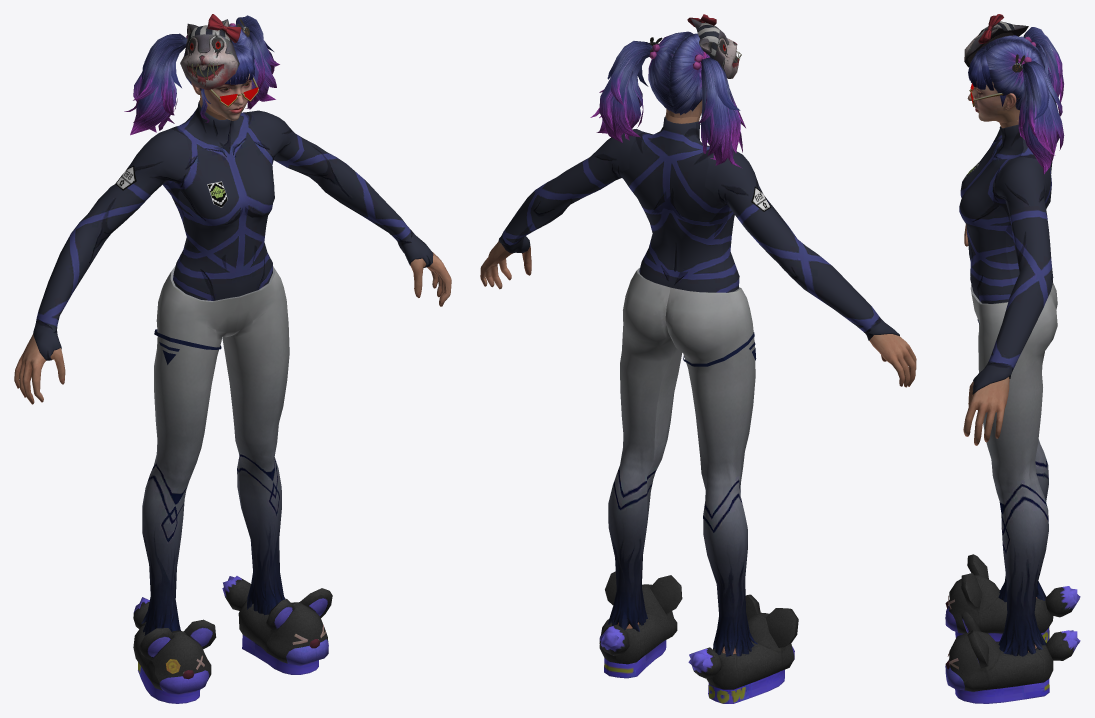
Rendered from rroli.n.glb.
The picture shows the model from 3 angles, left to right: view 1: azimuth 30°, elevation 25°; view 2: azimuth 150°, elevation 25°; view 3: azimuth 270°, elevation 25°; orthographic projection. The views are drawn at different scales.
Parts seen in each view (by area): view 1: rroli.n; view 2: rroli.n; view 3: rroli.n.
Part boxes in pixels (x1=…): rroli.n: x1=14, y1=14, x2=451, y2=703; rroli.n: x1=480, y1=14, x2=916, y2=703; rroli.n: x1=945, y1=14, x2=1080, y2=703.
Bounding box in the file's own units: 0.628 × 0.9305 × 0.1766.
Materials: 9 (9 with a texture image).
